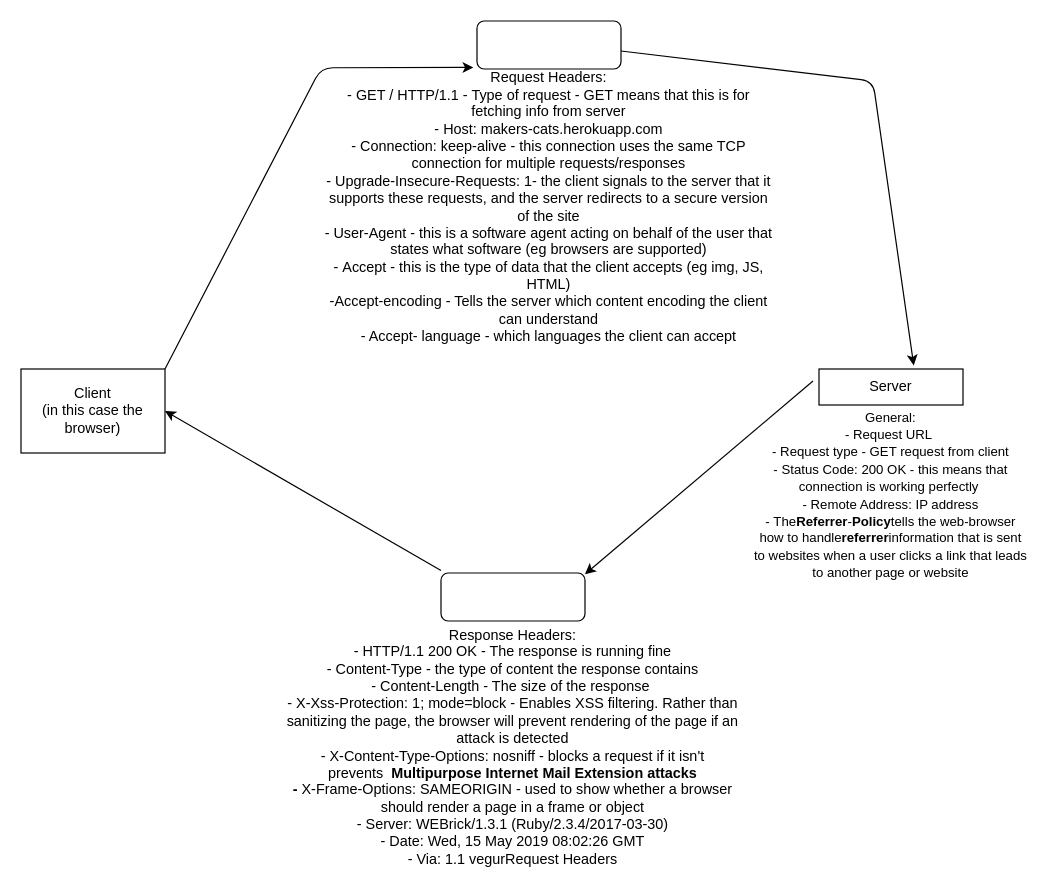
Image size: 1050x894. Some labels were removed from this diagram. The centre of each missing label's shape, as x and y in pixels:
"HTTP Request from the client" goes at (548,44).
"HTTP response from the Server" goes at (512,596).
